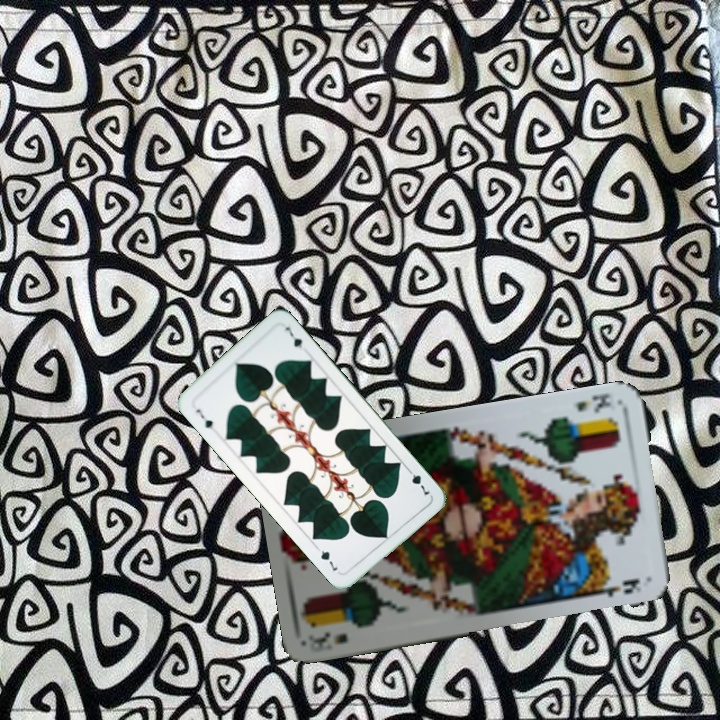EK: (308, 628, 351, 654), (572, 389, 613, 416)
G7: (403, 464, 433, 497), (192, 405, 215, 431)
